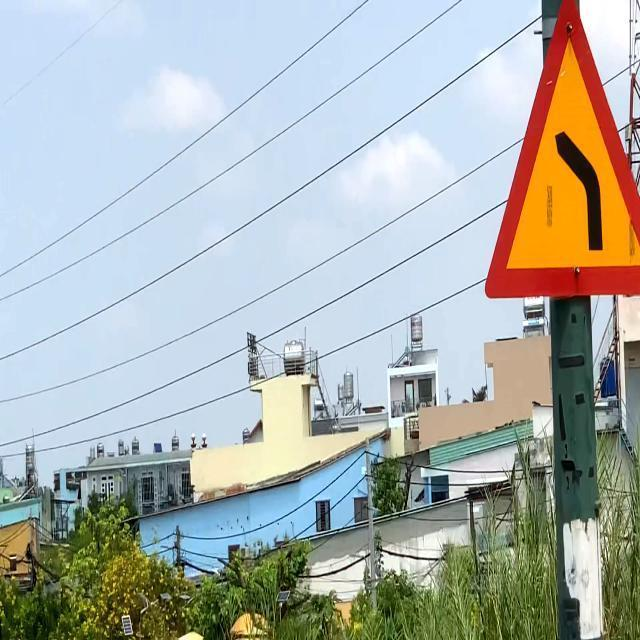201-cho-ngoat-nguy-hiem: (484, 0, 640, 296)
